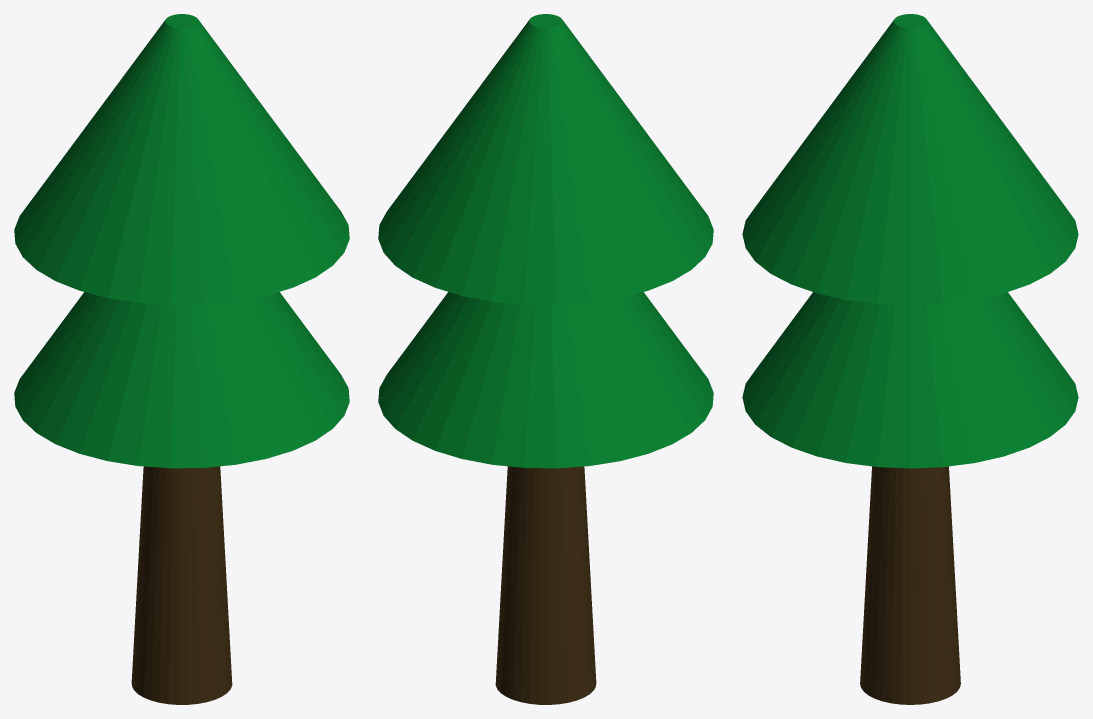
File: tree.glb
3 renders of one model, left to right at view 1: azimuth 30°, elevation 25°; view 2: azimuth 150°, elevation 25°; view 3: azimuth 270°, elevation 25°, orthographic.
Visible parts, largest first — view 1: Cone.001, Cone; view 2: Cone.001, Cone; view 3: Cone.001, Cone.
Part boxes in pixels (x1,y1,x2,y2): Cone.001: [14, 14, 349, 468]; Cone: [131, 466, 232, 704]; Cone.001: [378, 14, 713, 468]; Cone: [495, 466, 596, 704]; Cone.001: [742, 14, 1078, 468]; Cone: [860, 466, 960, 704].
Size of the model in its own units: 10 by 21.75 by 10.
